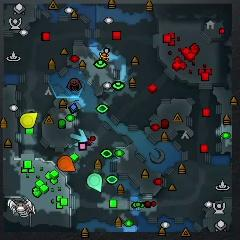p2: (87, 173, 102, 192)
p4: (20, 112, 38, 128)
p5: (58, 156, 75, 171)
x3: (70, 129, 87, 147)
